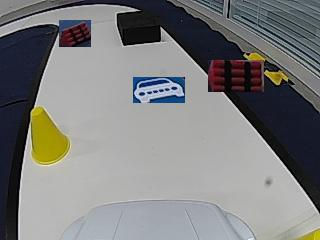block: (116, 9, 160, 45)
cone: (31, 108, 69, 164)
